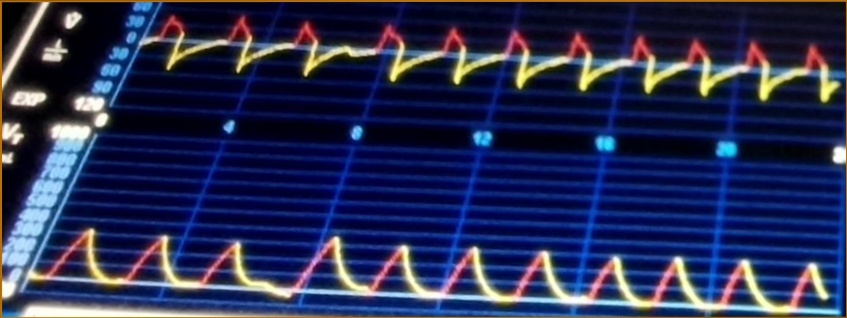Ineffective_effort Flow: (147, 5, 839, 110)
Ineffective_effort Volume: (37, 213, 830, 314)
